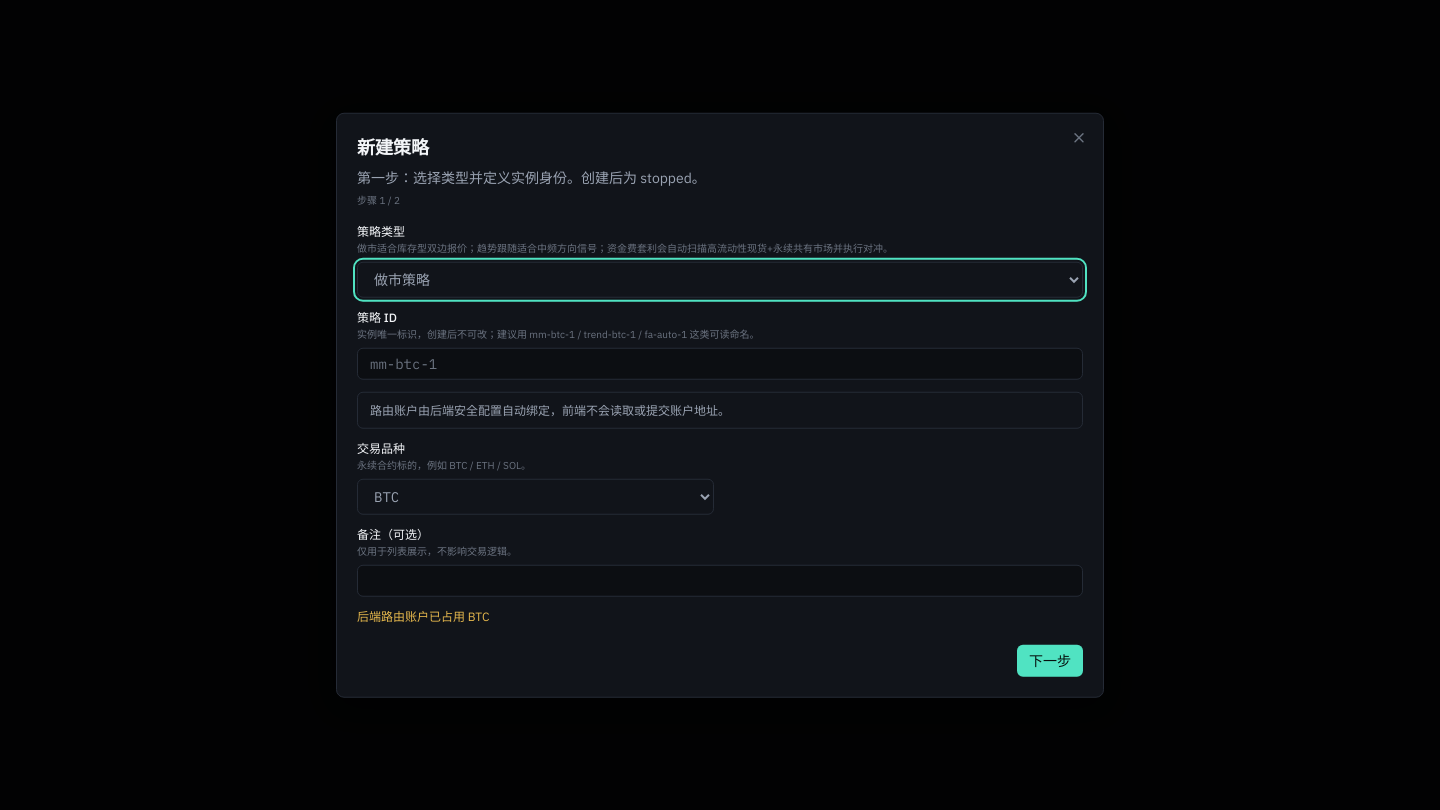
Test: CreateStrategyDialog › warns when an active fixed market already occupies the AUTO account
Select "资金费套利" in the dropdown labelled "策略类型 做市适合库存型双边报价；趋势跟随适合中频方向信号；资金费套利会自动扫描高流动性现货+永续共有市场并执行对冲。" at [720, 280], box [357,262,1083,298]
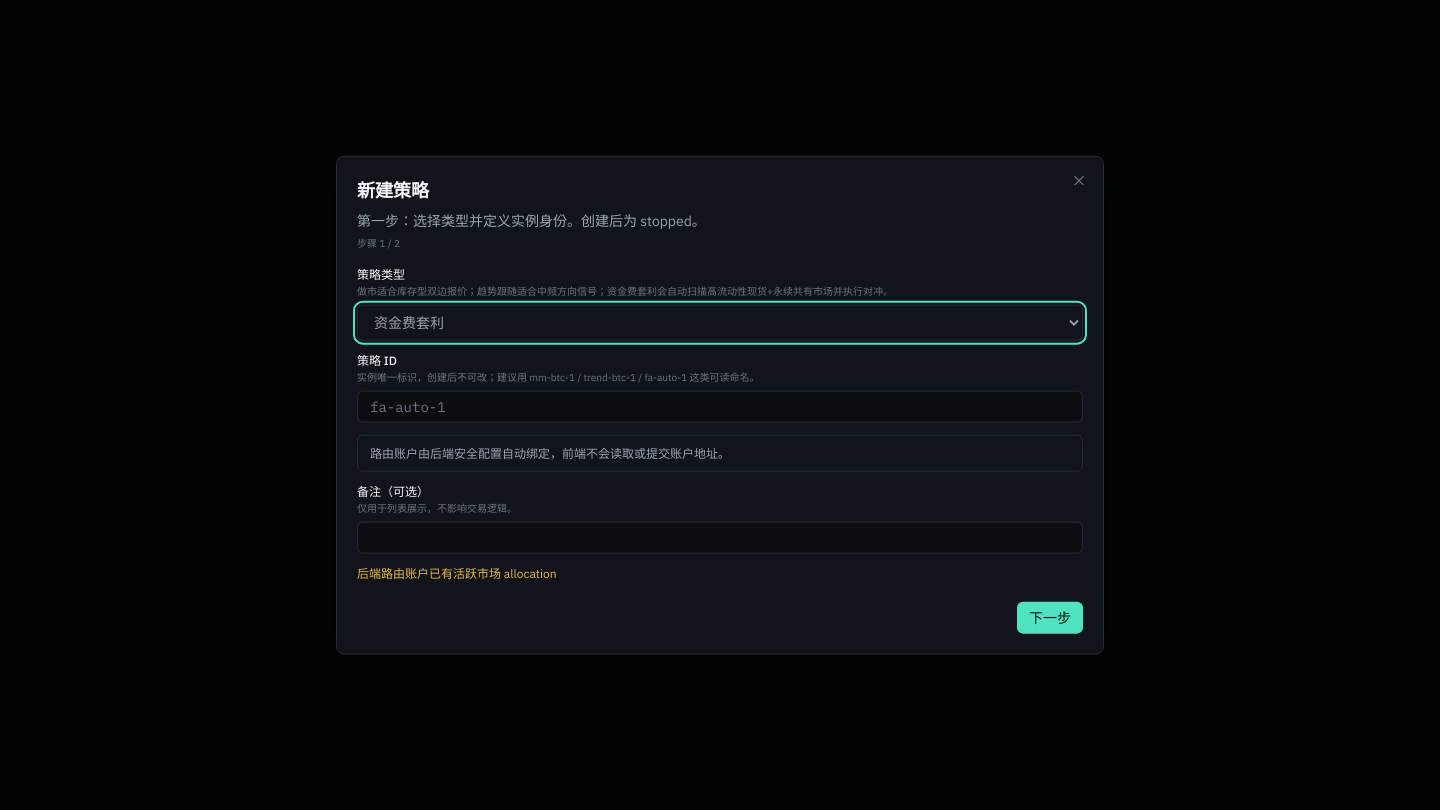
Check: the text "后端路由账户已有活跃市场 allocation" is shown, box [357,565,557,580]
